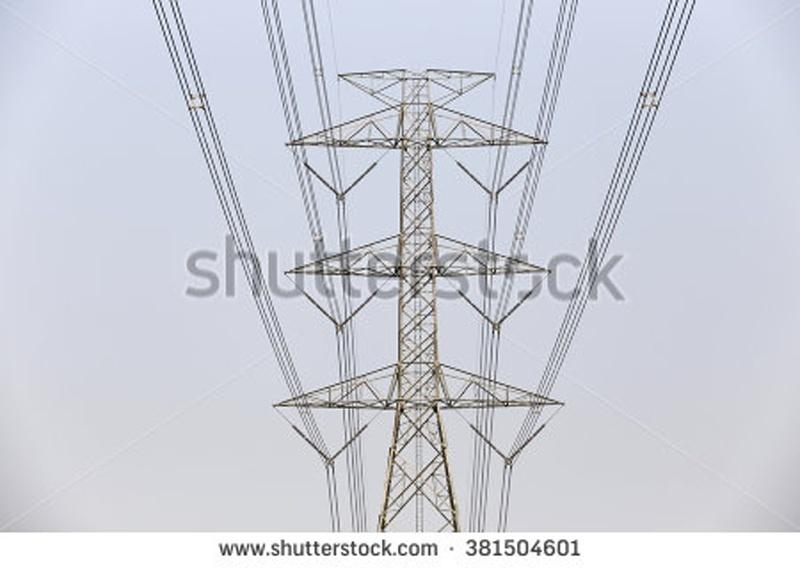power_tower: (286, 67, 542, 535)
